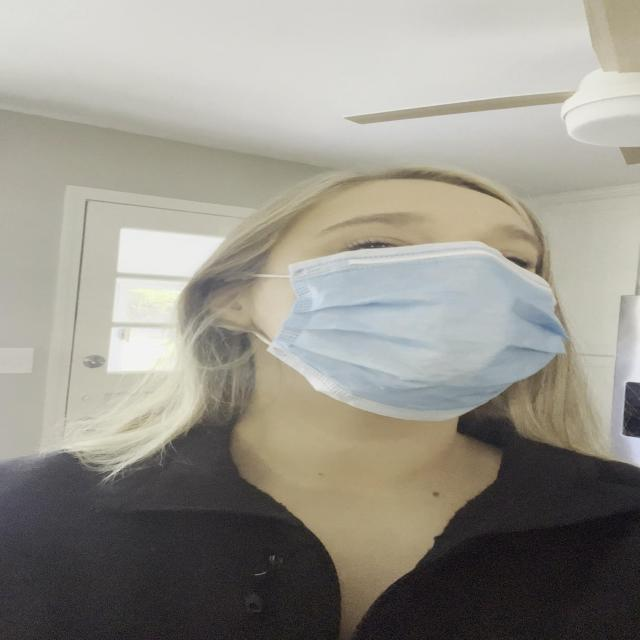no-helmet: (168, 173, 582, 442)
